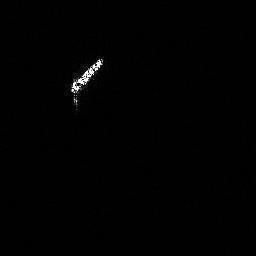ship: (64, 55, 112, 110)
